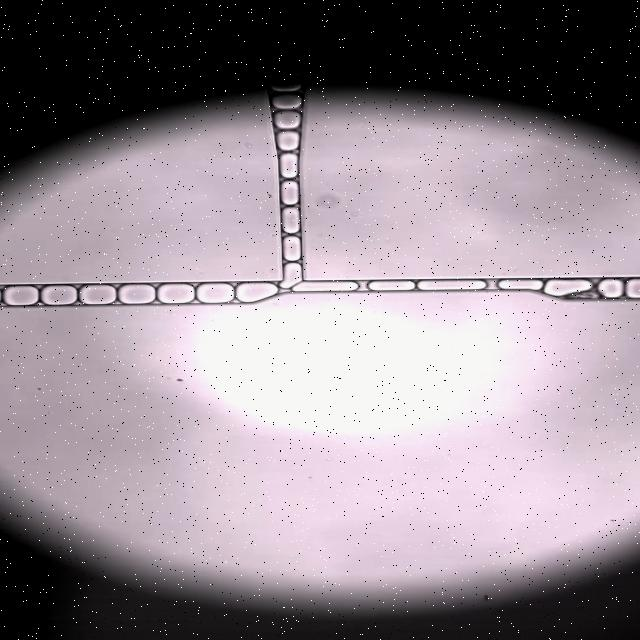L: (281, 263, 302, 288), (273, 111, 300, 129), (598, 279, 623, 298), (369, 281, 415, 291), (276, 131, 299, 151), (282, 208, 300, 233), (280, 153, 298, 178), (283, 236, 301, 261), (498, 280, 542, 290), (272, 94, 301, 109), (281, 180, 298, 205), (271, 84, 302, 92)
S: (236, 283, 277, 302), (544, 280, 591, 296), (196, 284, 234, 303), (119, 284, 155, 304), (41, 285, 77, 305), (158, 284, 195, 303), (79, 285, 116, 304), (2, 286, 39, 305), (418, 280, 485, 290), (294, 282, 357, 291), (626, 279, 640, 298)
